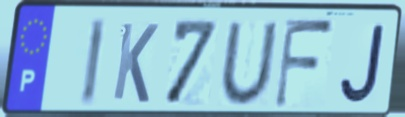7: (167, 17, 220, 109)
F: (271, 16, 336, 112)
I: (78, 16, 109, 109)
J: (337, 21, 387, 107)
K: (109, 19, 161, 106)
U: (218, 19, 281, 108)
